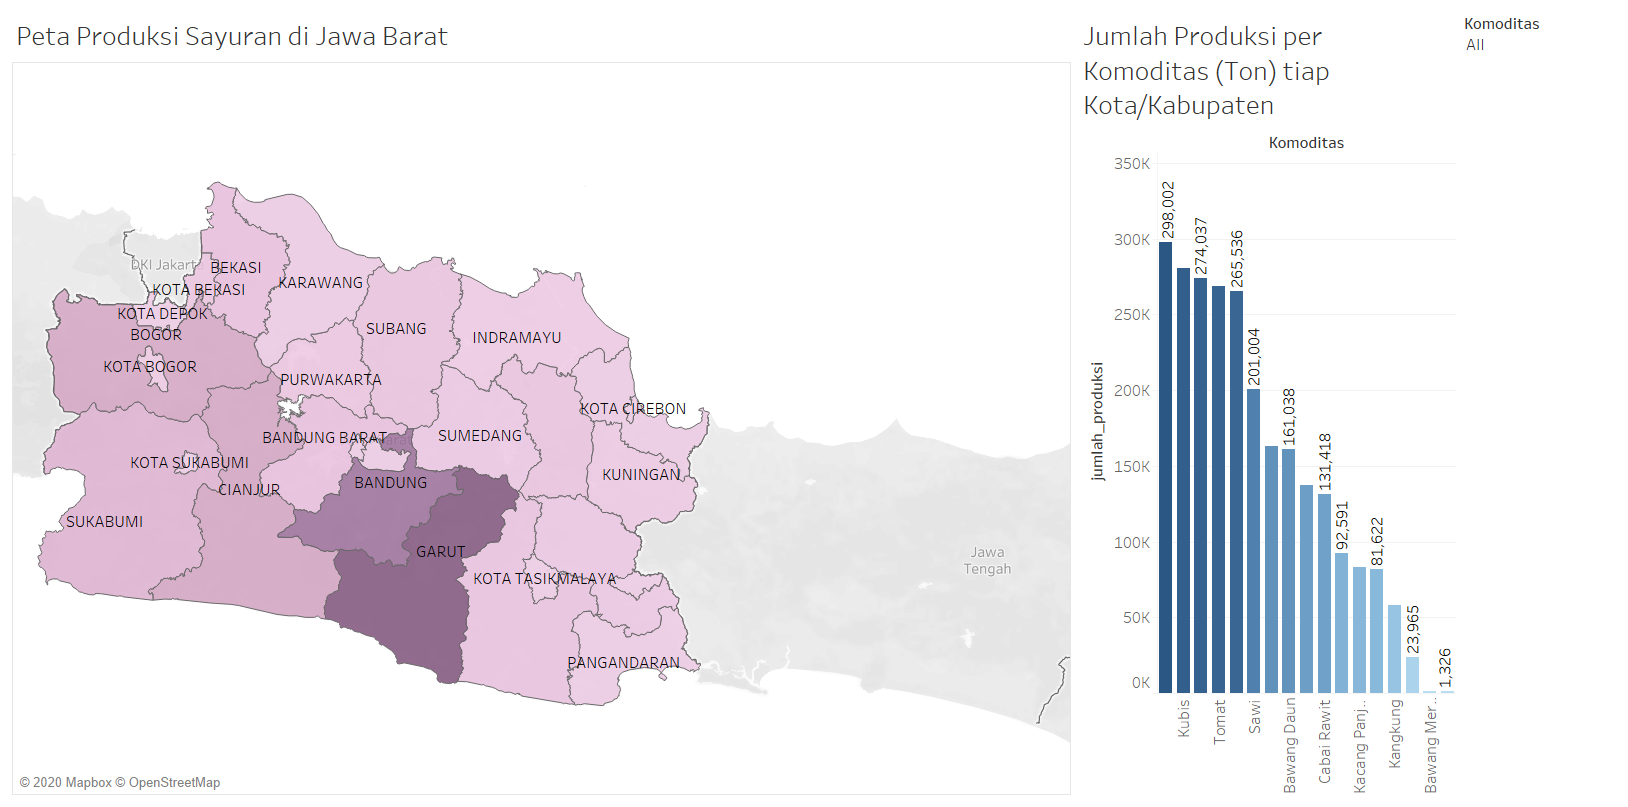

What the dashboard file says about the page in this screenshot:
{"tool":"tableau","page":{"name":"Dashboard 1","canvas":[1000,1000],"units":"permille","ordinal":0},"visuals":[{"type":"worksheet","title":"Sheet 1","mark":"Automatic","box":[4.8,9.3,655.5,981.4]},{"type":"worksheet","title":"Sheet 2","mark":"Automatic","rows":["jumlah_produksi"],"cols":["Komoditas"],"box":[660.3,9.3,238.3,981.4]},{"type":"filter","title":"Sheet 1","param":"[federated.0gmxy4r1ih1d0w1dr0y5o1gfgsu2].[none:Komoditas:nk]","box":[898.6,9.3,96.6,70.9]}]}

Visuals, with their boxes on the dashboard's canvas, which has no fixed pixel size, in thousandths of its width and height (x1, y1, x2, y2). These are canvas units, not pixel positions in the 1628x807 screenshot, which may show the page scaled, cropped or inside an application window:
"Sheet 1" worksheet: <region>5, 9, 660, 991</region>
"Sheet 2" worksheet: <region>660, 9, 899, 991</region>
"Sheet 1" filter: <region>899, 9, 995, 80</region>
